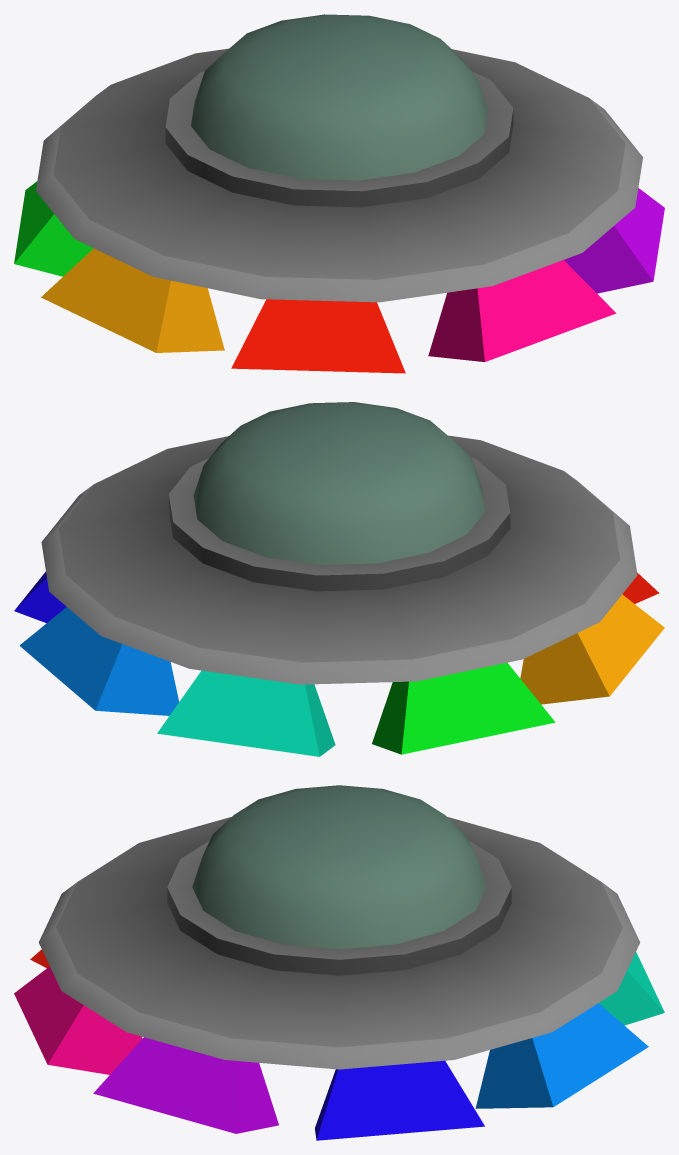
Rendered from space-spacecraft-flying-saucer_v1.glb.
The picture shows the model from 3 angles, top to bottom: view 1: azimuth 30°, elevation 25°; view 2: azimuth 150°, elevation 25°; view 3: azimuth 270°, elevation 25°; orthographic projection.
Visible parts, largest first — view 1: Flying Saucer_v1.001, Flying Saucer_v1, Flying Saucer_v1.002; view 2: Flying Saucer_v1.001, Flying Saucer_v1, Flying Saucer_v1.002; view 3: Flying Saucer_v1.001, Flying Saucer_v1, Flying Saucer_v1.002.
Boxes of the visible parts, x1,y1,x2,y2 form: Flying Saucer_v1.001: (36,48,642,302); Flying Saucer_v1: (14,181,664,373); Flying Saucer_v1.002: (191,14,487,180); Flying Saucer_v1.001: (41,435,637,684); Flying Saucer_v1: (14,571,664,756); Flying Saucer_v1.002: (193,402,485,564); Flying Saucer_v1.001: (38,817,640,1069); Flying Saucer_v1: (14,949,664,1140); Flying Saucer_v1.002: (192,785,486,949).
Bounding box in the file's own units: 15 × 5.75 × 15.
